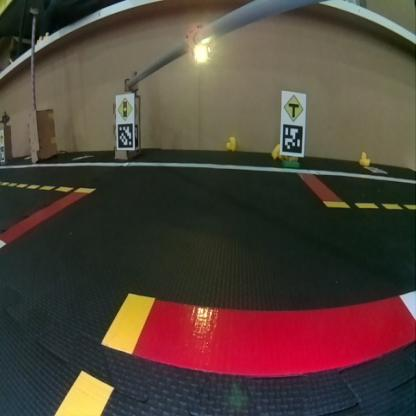Duckie: (271, 143, 281, 159), (360, 152, 370, 166), (226, 136, 235, 150)
Intersection sign: (283, 94, 303, 121)
QR code: (282, 123, 302, 153), (118, 122, 132, 147), (364, 164, 387, 172)
Signal sign: (117, 96, 132, 120)
Traffic light: (186, 22, 210, 59)
